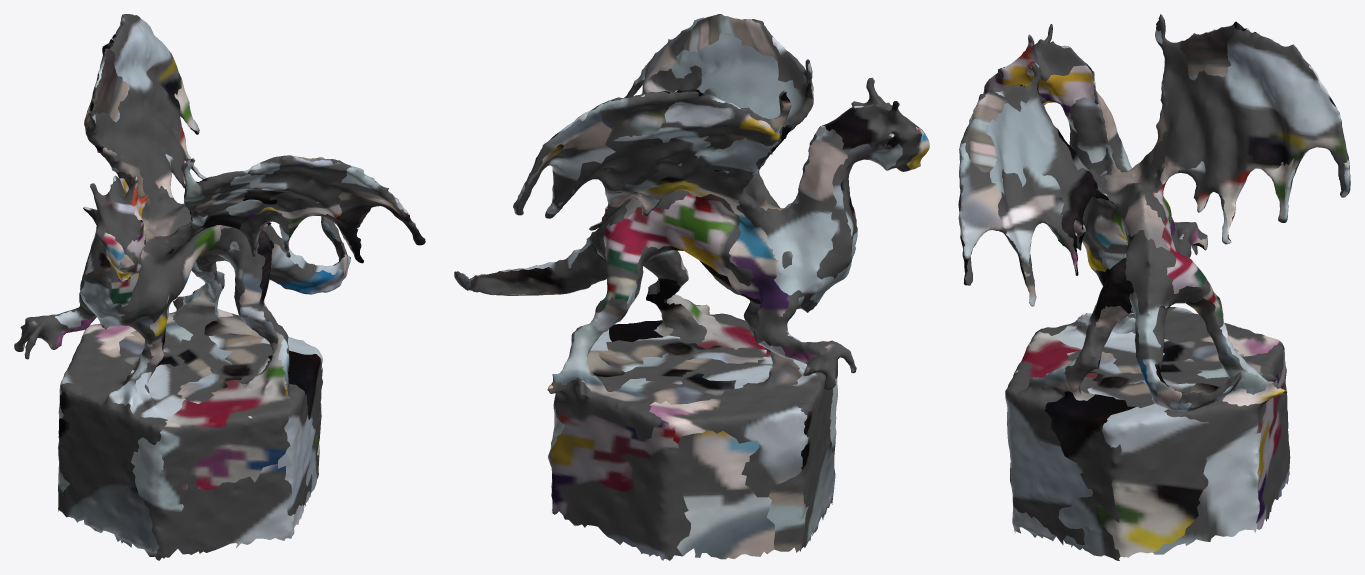
The model's file is dragonFBX.fbx.
The picture shows the model from 3 angles, left to right: view 1: azimuth 30°, elevation 25°; view 2: azimuth 150°, elevation 25°; view 3: azimuth 270°, elevation 25°; orthographic projection. The views are drawn at different scales.
Visible parts, largest first — view 1: mesh; view 2: mesh; view 3: mesh.
Boxes of the visible parts, <box> form: mesh: <box>14,14,425,560</box>; mesh: <box>454,14,929,560</box>; mesh: <box>958,14,1350,560</box>.
Bounding box in the file's own units: 14.56 × 17.94 × 13.52.
